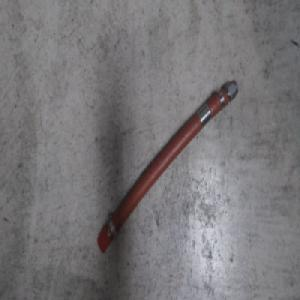Hose: (95, 76, 238, 257)
